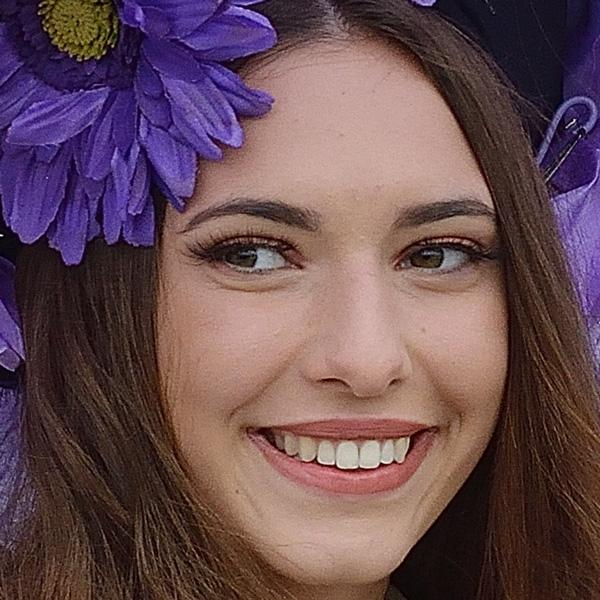Eyes: (193, 228, 312, 291), (384, 229, 495, 293)
